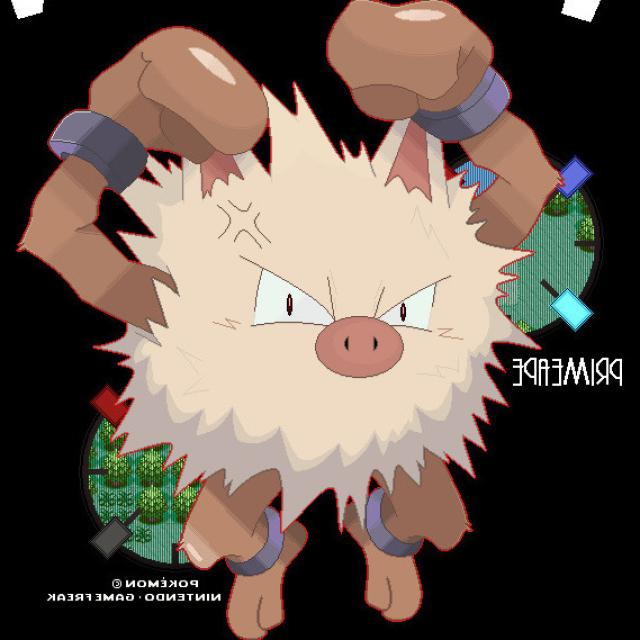Primeape: (110, 79, 532, 574)
